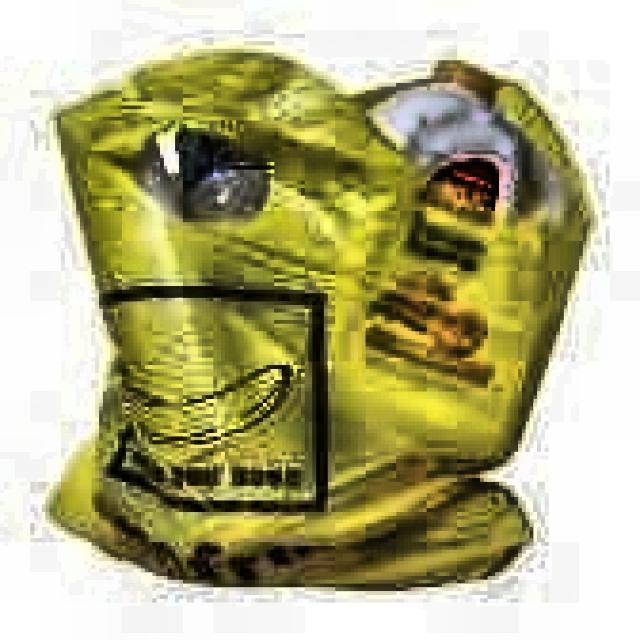Plastic: (35, 39, 576, 600)
